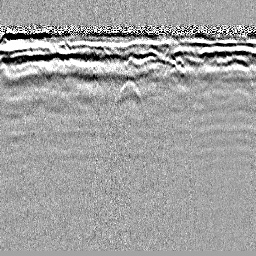cavity: (114, 78, 143, 105)
